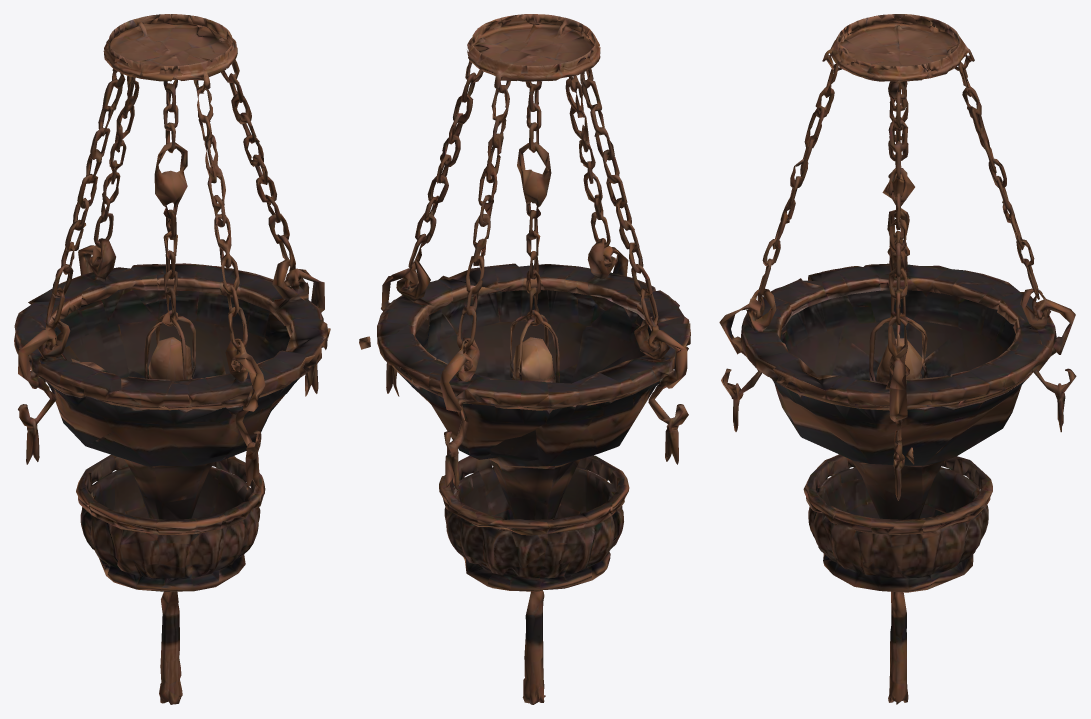
File: rusted_censer.glb
3 views of the same model, side by side, from view 1: azimuth 30°, elevation 25°; view 2: azimuth 150°, elevation 25°; view 3: azimuth 270°, elevation 25° (orthographic).
Size of the model in its own units: 0.9622 by 1.9 by 0.929.
Materials: 1 (1 with a texture image).
